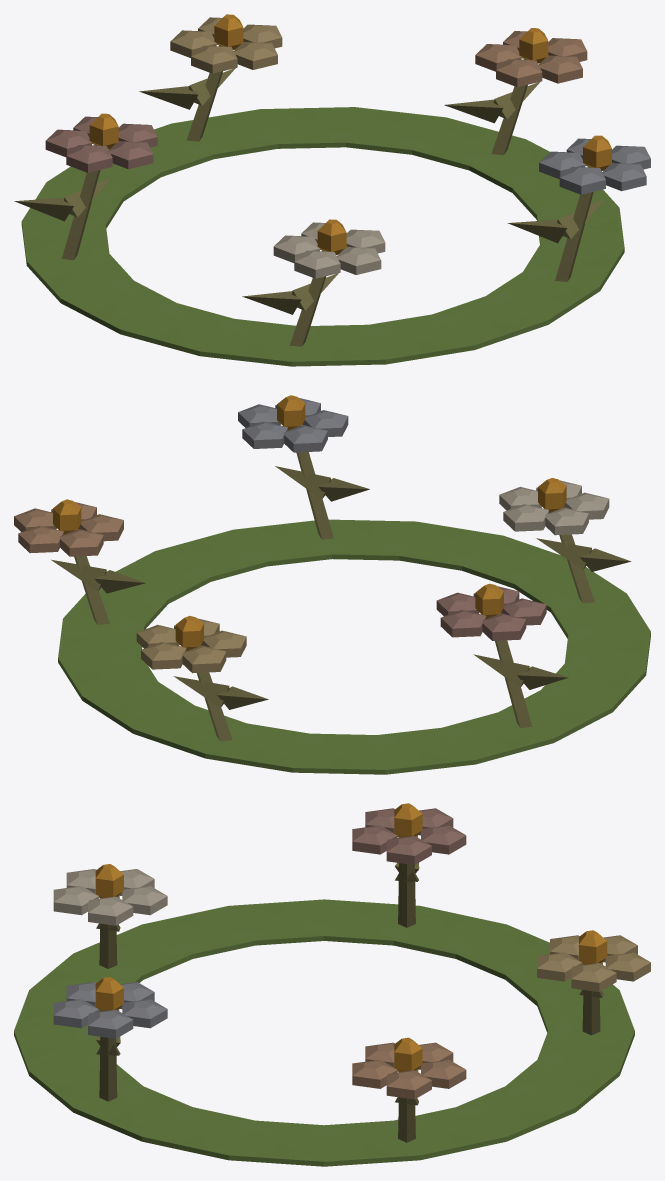
Rendered from flower_ring_01_wilt.glb.
3 views of the same model, one above another, from view 1: azimuth 30°, elevation 25°; view 2: azimuth 150°, elevation 25°; view 3: azimuth 270°, elevation 25° (orthographic). The views are drawn at different scales.
Visible parts, largest first — view 1: flower_ring_01_wilt; view 2: flower_ring_01_wilt; view 3: flower_ring_01_wilt.
Boxes of the visible parts, box(x1,y1,x2,y2) form: flower_ring_01_wilt: box(14, 14, 650, 366); flower_ring_01_wilt: box(14, 395, 650, 774); flower_ring_01_wilt: box(14, 803, 650, 1166).
Bounding box in the file's own units: 1.85 × 0.4388 × 1.76.
Materials: 8 (8 with a texture image).
